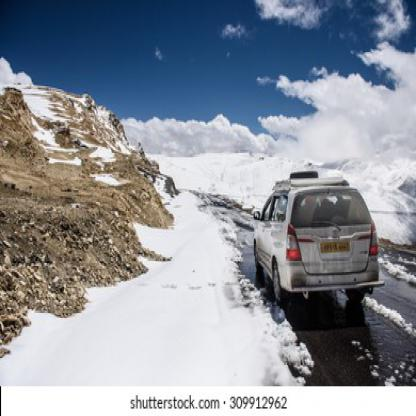car: (252, 174, 378, 304)
